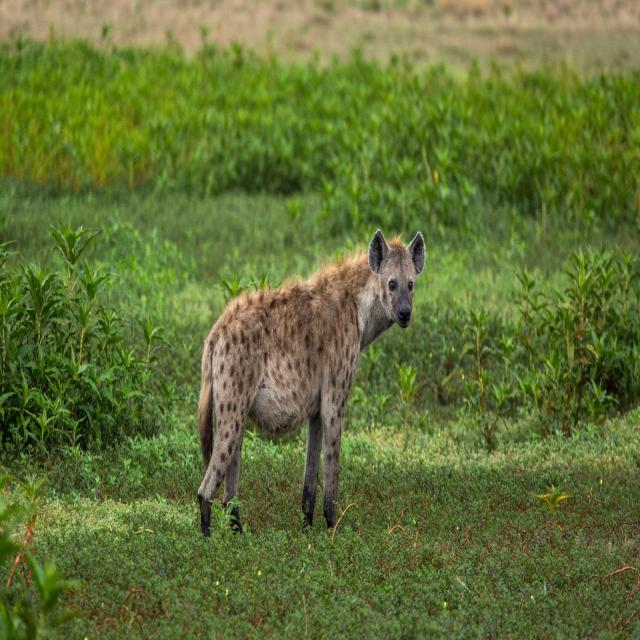Hyena: (193, 225, 431, 538)
